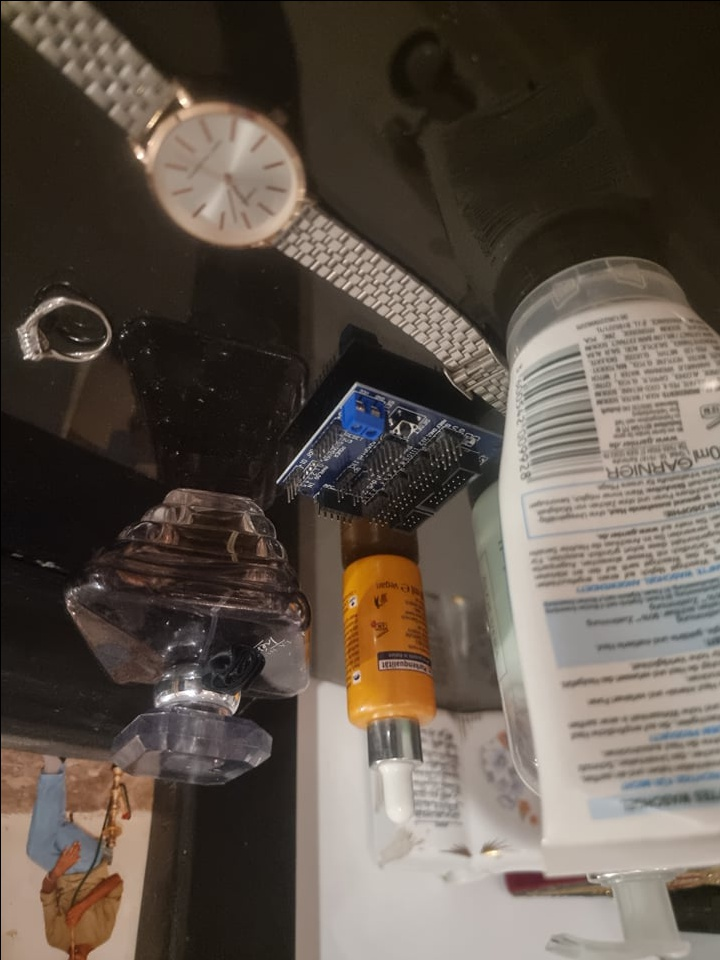SENSOR: (274, 381, 507, 542)
